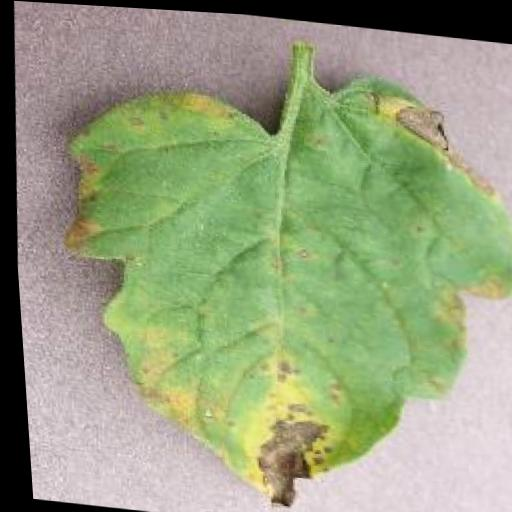Septoria: (34, 35, 512, 512)
